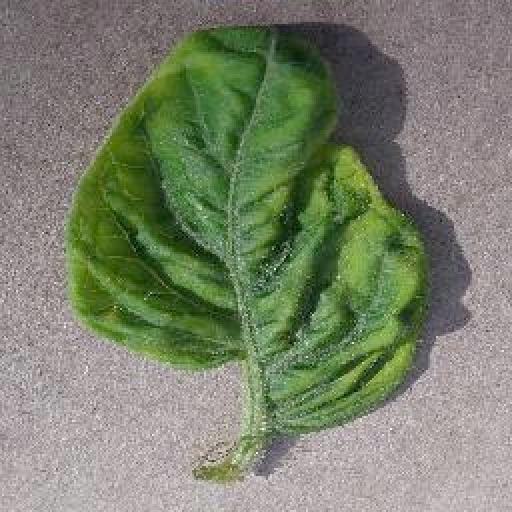disease_tomato: (60, 20, 426, 434)
